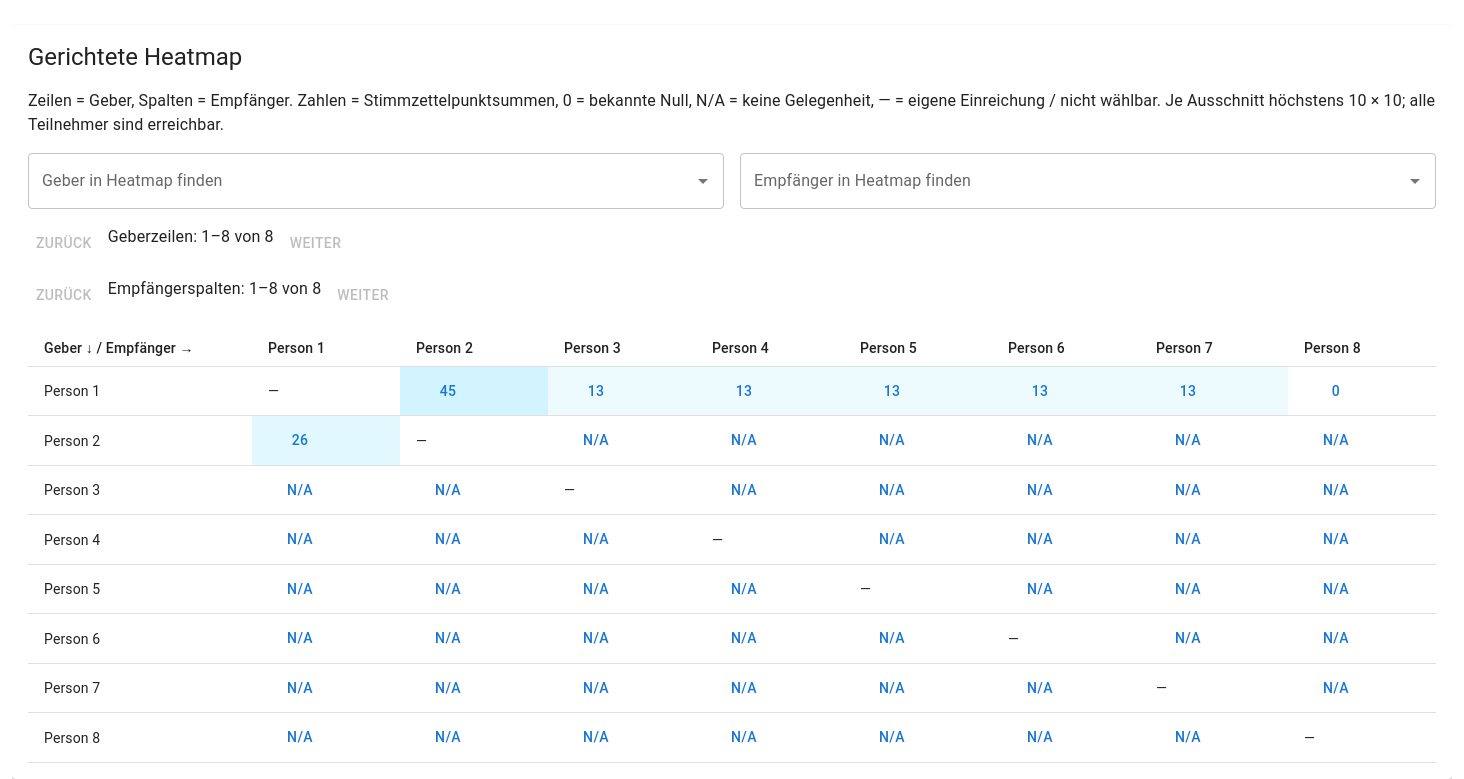
S2-T06 statistics UI and shared evidence › replaces the entire snapshot on refresh even with unchanged includedShowIds
(page scrolled)
Click the button named "Person 1 → Person 2: 45, Beziehungsdetails".
click(448, 391)  # box [416,373,480,409]
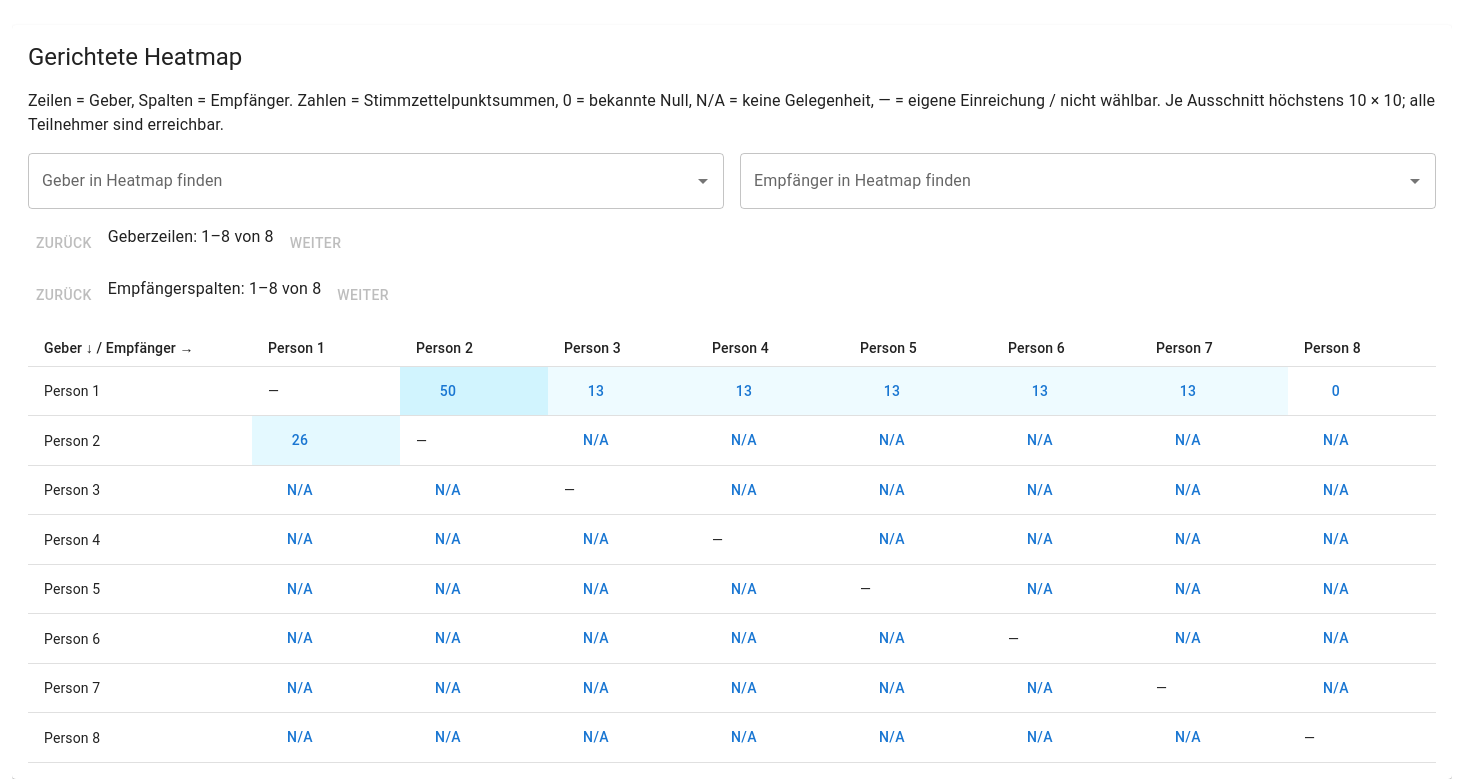
Check: the button named "Person 1 → Person 2: 50, Beziehungsdetails" is shown, box [416,373,480,409]
